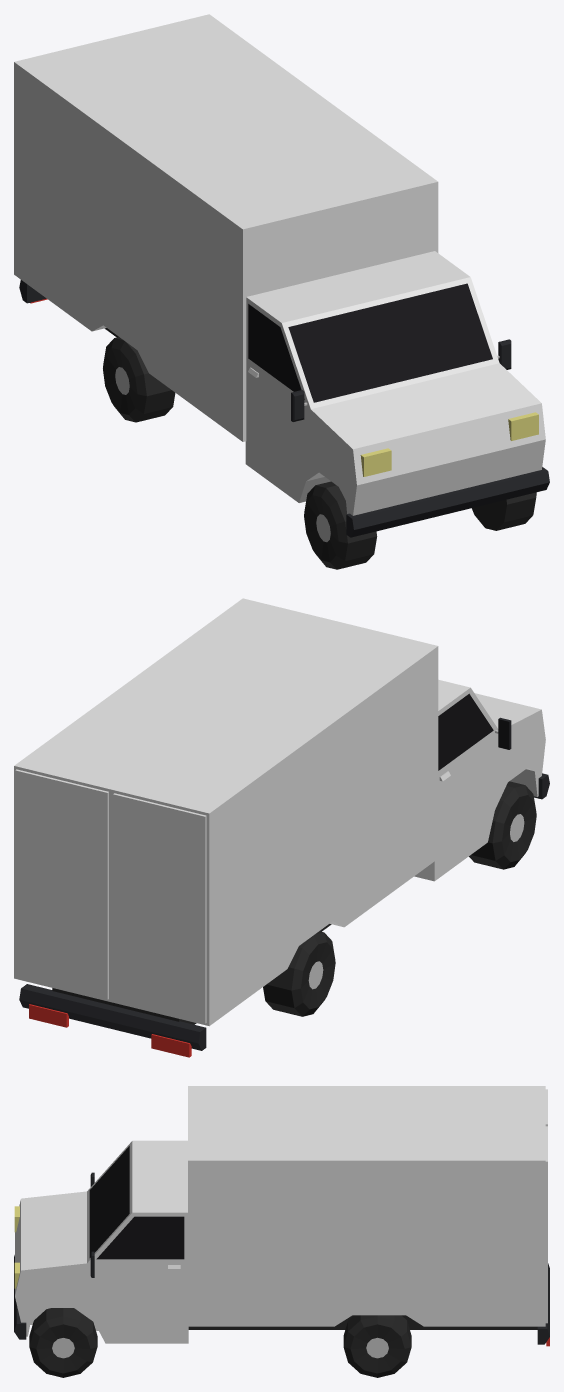
The model's file is Small_Truck_01.fbx.
3 renders of one model, top to bottom at view 1: azimuth 30°, elevation 25°; view 2: azimuth 150°, elevation 25°; view 3: azimuth 270°, elevation 25°, orthographic. The views are drawn at different scales.
Visible parts, largest first — view 1: Small_Truck_01; view 2: Small_Truck_01; view 3: Small_Truck_01.
Part boxes in pixels (x1,y1,x2,y2): Small_Truck_01: (14,14,549,569); Small_Truck_01: (14,598,549,1057); Small_Truck_01: (14,1086,549,1377).
Size of the model in its own units: 3.19 by 3.91 by 8.68.
